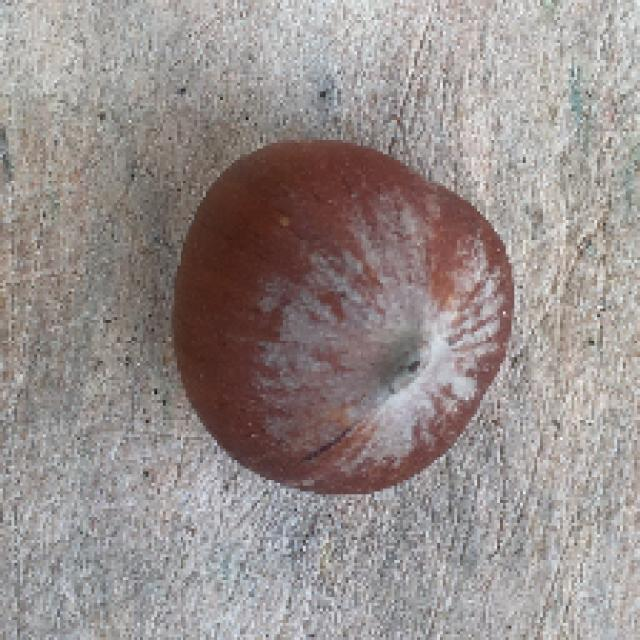qualityHazelnut: (160, 131, 523, 518)
